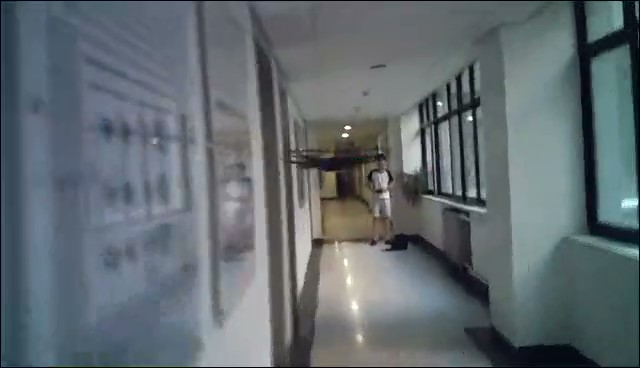drone: (284, 148, 385, 186)
person: (367, 153, 397, 247)
